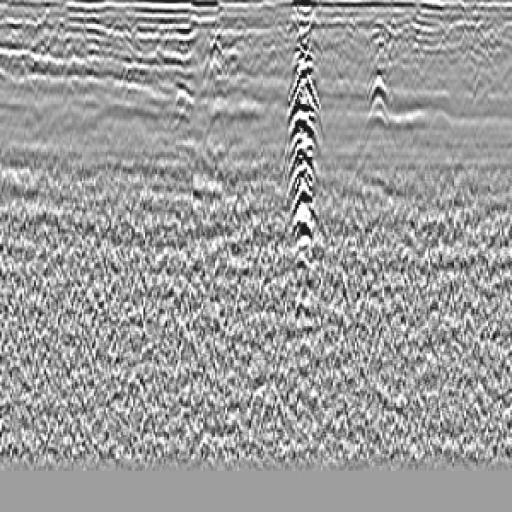metalic: (271, 18, 335, 308)
non-metallic: (353, 29, 410, 158)
